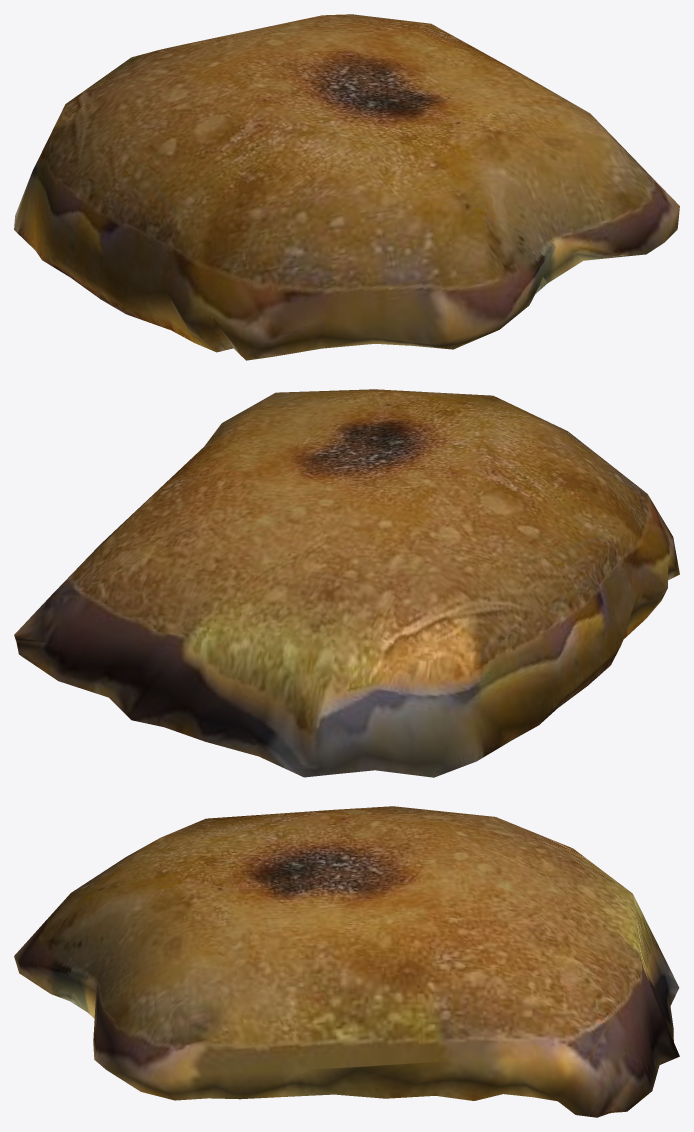
File: bun-top.glb
3 views of the same model, one above another, from view 1: azimuth 30°, elevation 25°; view 2: azimuth 150°, elevation 25°; view 3: azimuth 270°, elevation 25° (orthographic). The views are drawn at different scales.
Visible parts, largest first — view 1: bun-top; view 2: bun-top; view 3: bun-top.
Boxes of the visible parts, box(x1,y1,x2,y2) form: bun-top: box(14, 14, 679, 360); bun-top: box(14, 389, 679, 777); bun-top: box(14, 806, 679, 1117).
Size of the model in its own units: 7.71 by 2.85 by 9.4.
1 material, 1 textured.
